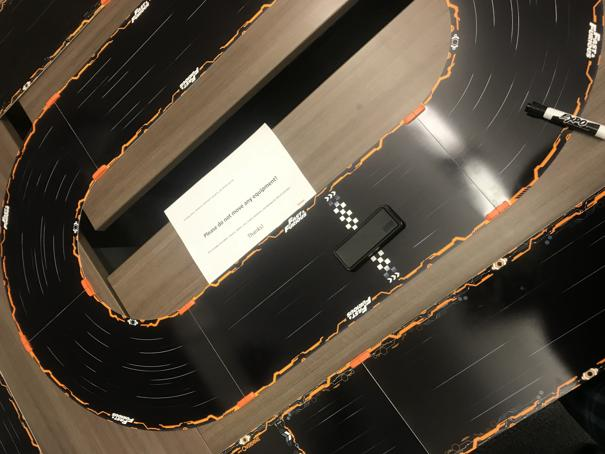Finish Line: (322, 190, 400, 285)
